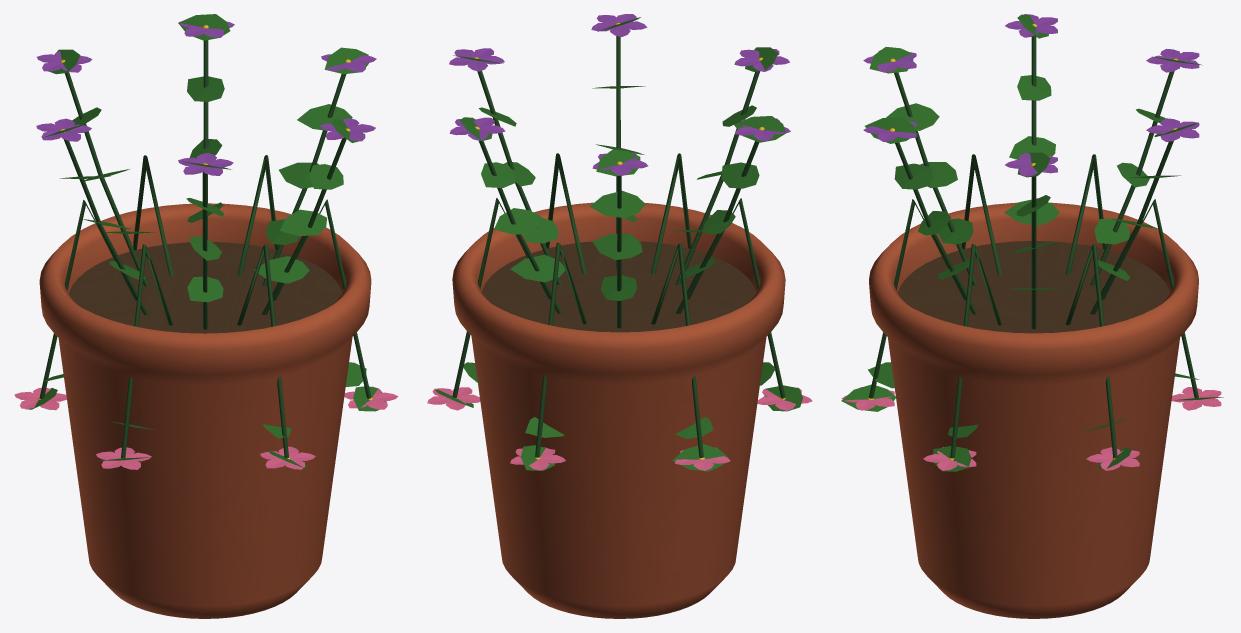
File: TerracottaPlanter.gltf
3 views of the same model, side by side, from view 1: azimuth 30°, elevation 25°; view 2: azimuth 150°, elevation 25°; view 3: azimuth 270°, elevation 25° (orthographic).
Visible parts, largest first — view 1: TerracottaPlanter__Body, TerracottaPlanter__Plants; view 2: TerracottaPlanter__Body, TerracottaPlanter__Plants; view 3: TerracottaPlanter__Body, TerracottaPlanter__Plants.
Part boxes in pixels (bbox=[...]): TerracottaPlanter__Body: bbox=[39, 203, 371, 618]; TerracottaPlanter__Plants: bbox=[14, 14, 398, 469]; TerracottaPlanter__Body: bbox=[452, 202, 785, 618]; TerracottaPlanter__Plants: bbox=[427, 14, 812, 471]; TerracottaPlanter__Body: bbox=[869, 202, 1198, 618]; TerracottaPlanter__Plants: bbox=[841, 14, 1223, 471].
Bounding box in the file's own units: 0.56 × 0.784 × 0.56.
Materials: 1 (1 with a texture image).
